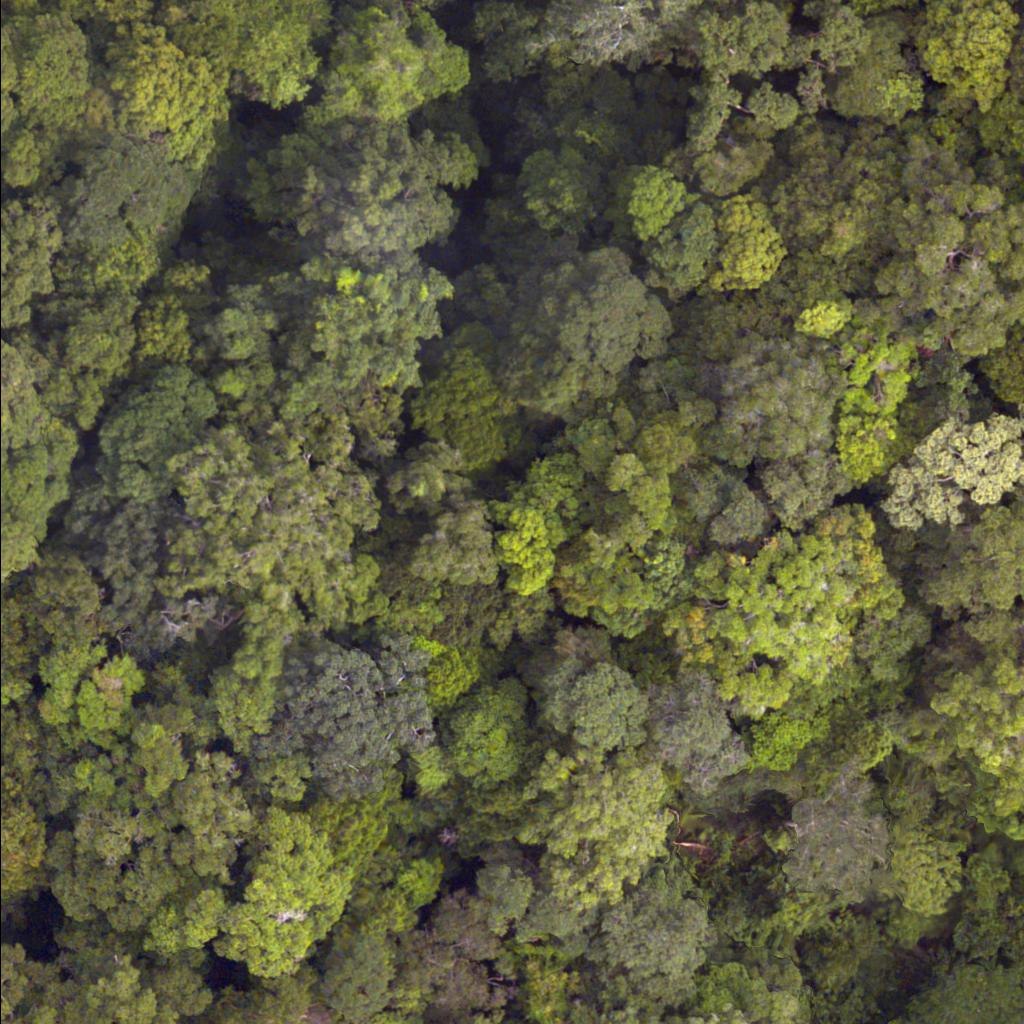crown: (166, 409, 390, 619), (249, 634, 438, 802), (182, 809, 361, 978), (509, 748, 682, 905), (96, 364, 225, 505), (773, 779, 897, 911), (406, 882, 523, 1018), (586, 884, 718, 1003), (893, 959, 1023, 1023), (313, 929, 397, 1023), (0, 193, 53, 324), (200, 979, 349, 1023), (0, 345, 41, 460), (0, 802, 43, 898), (455, 1012, 509, 1023)
